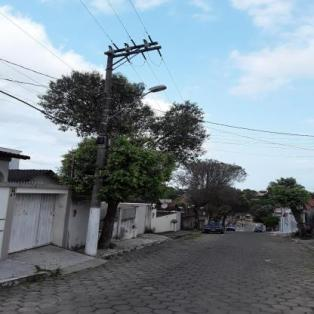Poste: (79, 47, 118, 258)
